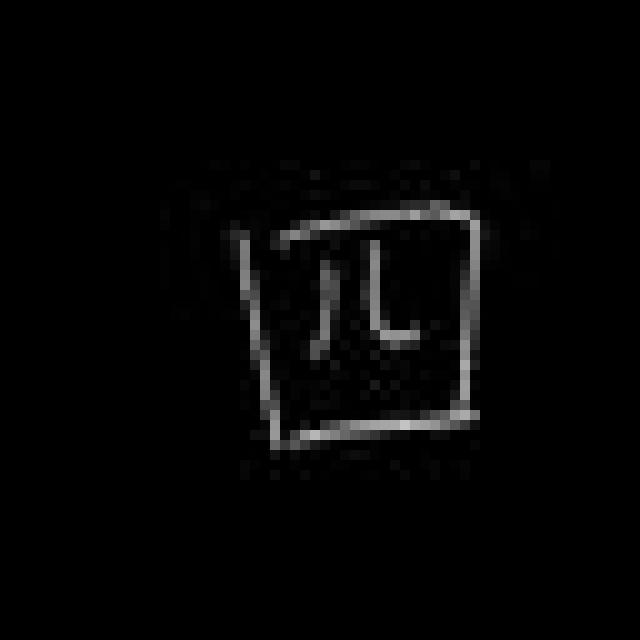4 -four-: (225, 194, 496, 461)
